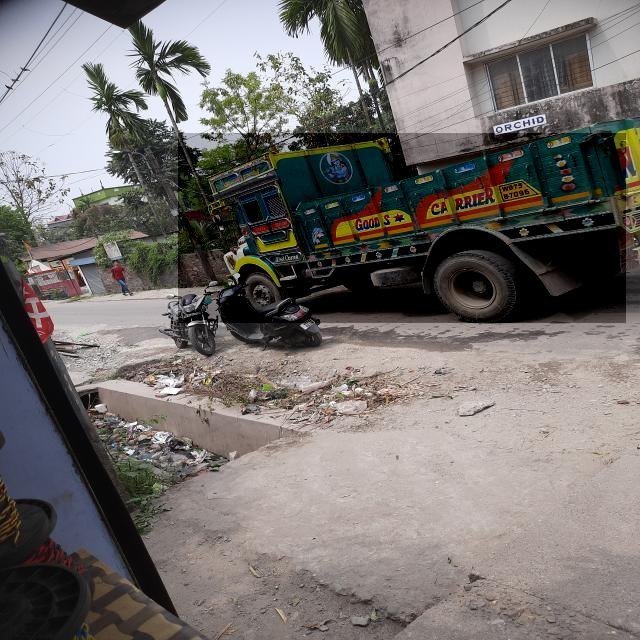Truck: (178, 133, 626, 323)
